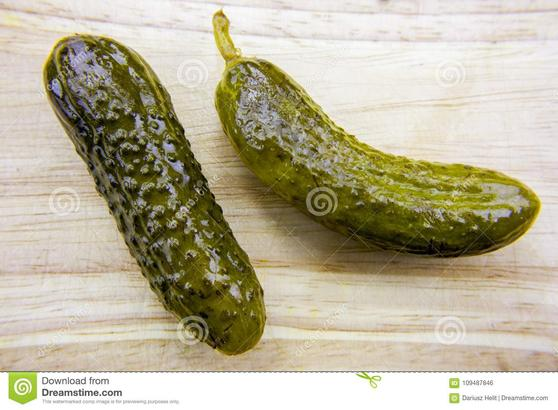cucumber: (202, 13, 542, 254), (39, 30, 272, 353)
